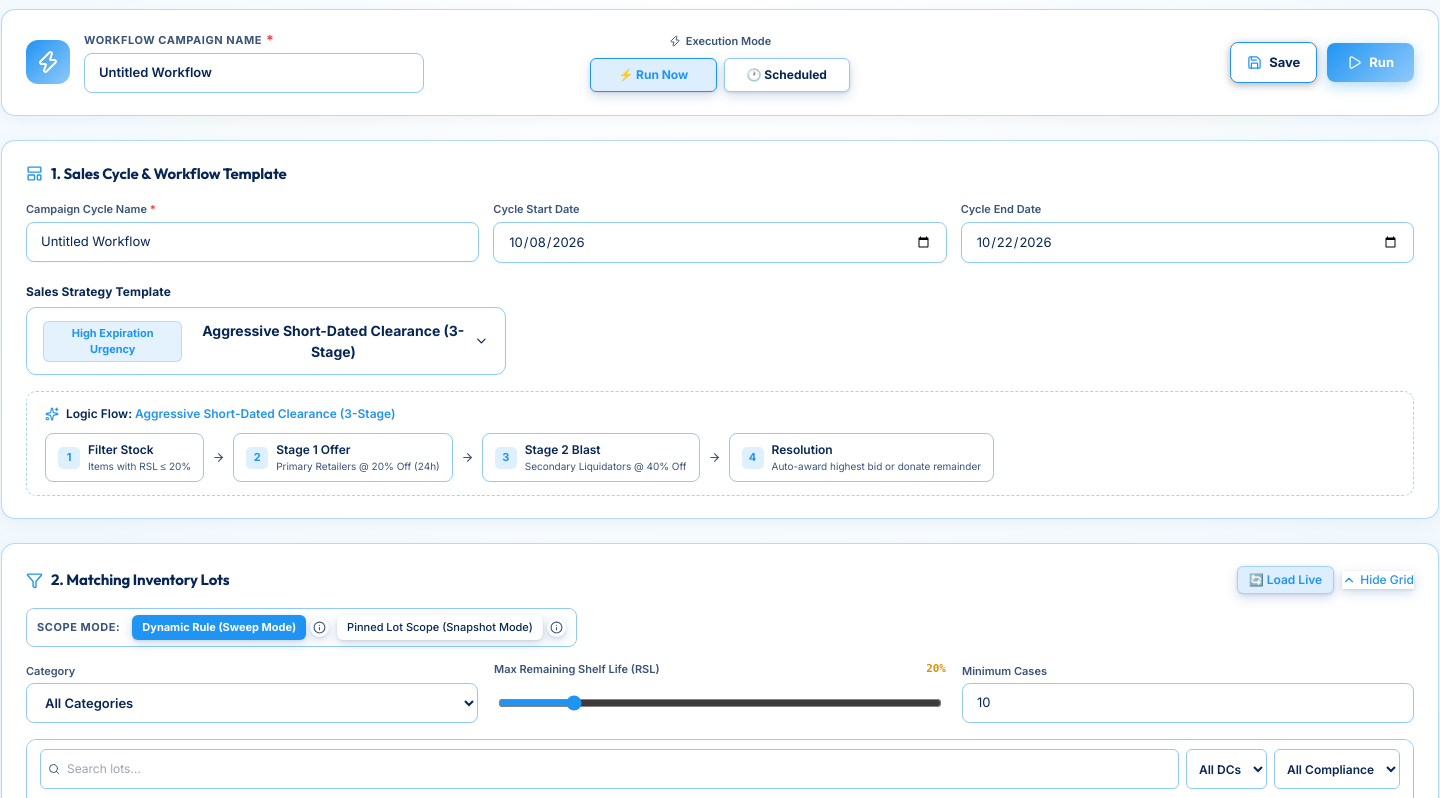
Scenario: TDD Suite: Issues 0048-0051 (Campaign Validations, Buyer Segment Roster, Popover UX & Edit Hydration) › Cycle 2 (Issue 0049): should render Eye button beside target buyer segment and open buyer roster inspection modal
The width and height of the screenshot is (1440, 798).
Note: Expand stage 1 panel by clicking stage index 1
Click the text "1" at (69, 458), box left=58, top=446, right=80, bottom=468
(page scrolled)
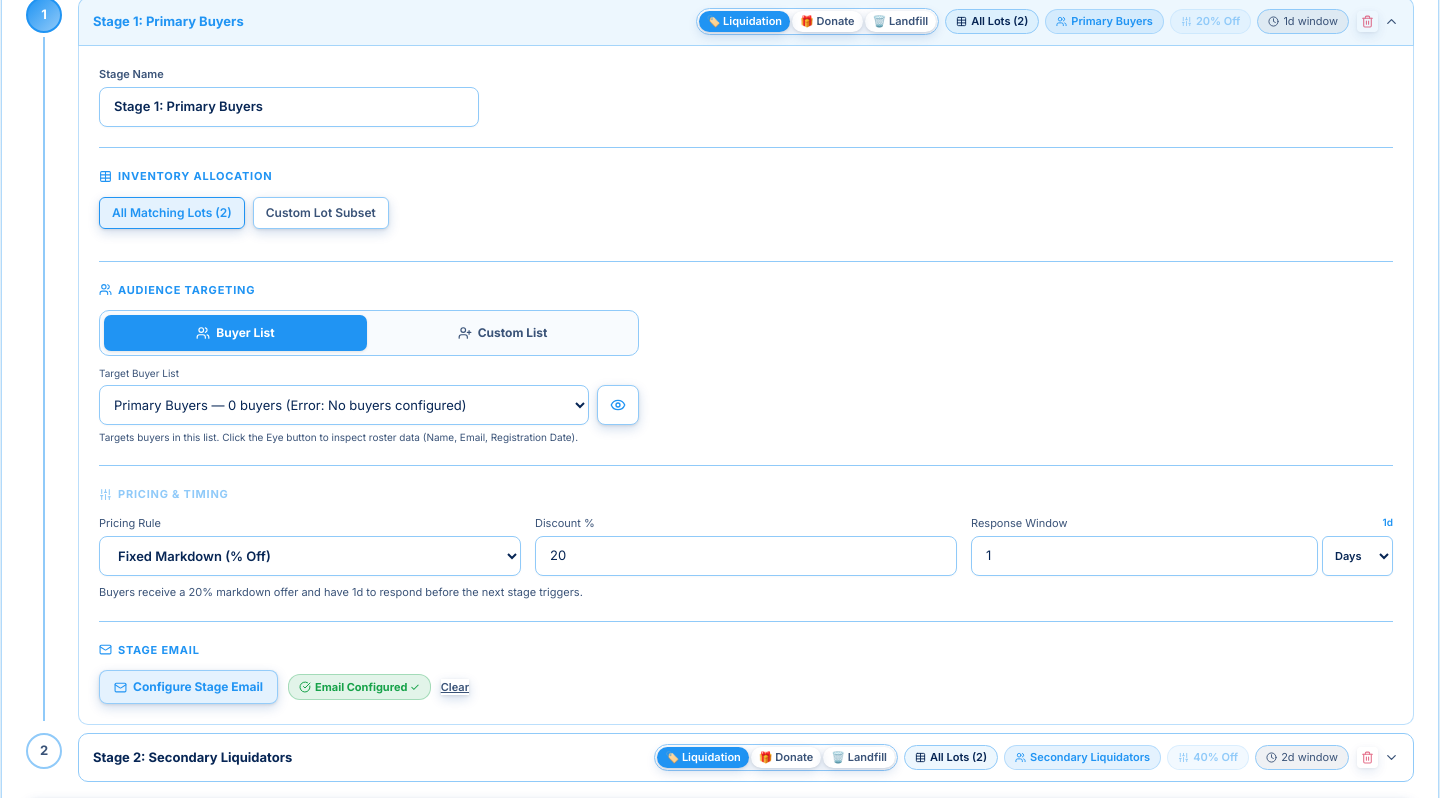
Note: Click Eye button
Click the button titled "Inspect Buyer Data" at (618, 405), box left=597, top=385, right=639, bottom=425
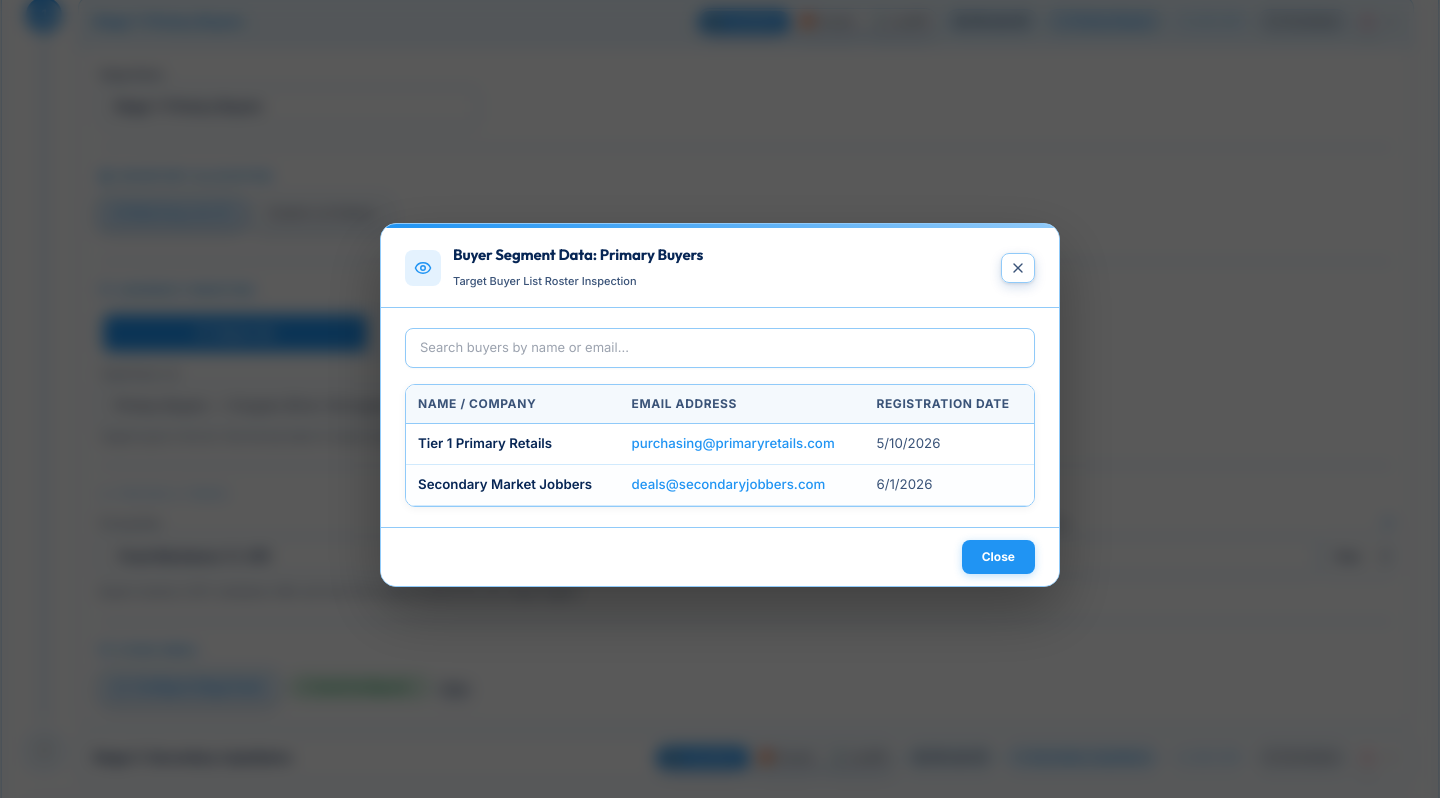
Check: the heading "Buyer Segment Data: Primary Buyers" is shown, box left=453, top=244, right=703, bottom=267
Check: the column heading "Name / Company" is shown, box left=406, top=385, right=620, bottom=423
Check: the column heading "Email Address" is shown, box left=620, top=385, right=864, bottom=423
Note: Test search filter inside modal
Type "secondary" into the field with placeholder "Search buyers by name or email..." at (720, 348), box left=405, top=328, right=1035, bottom=368
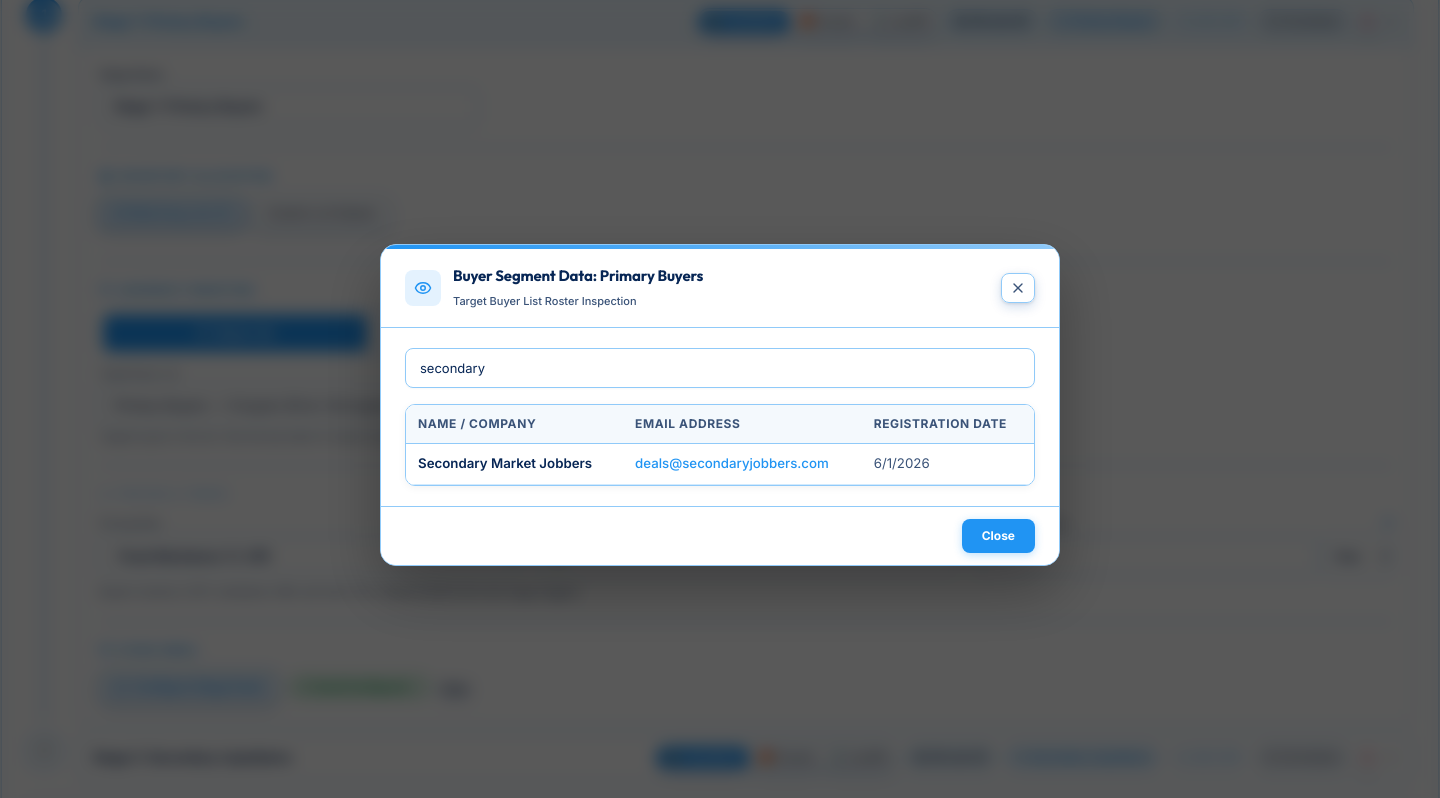
Check: the text "Secondary Market Jobbers" is shown, box left=406, top=444, right=623, bottom=485
Check: the text "Tier 1 Primary Retails" is gone
